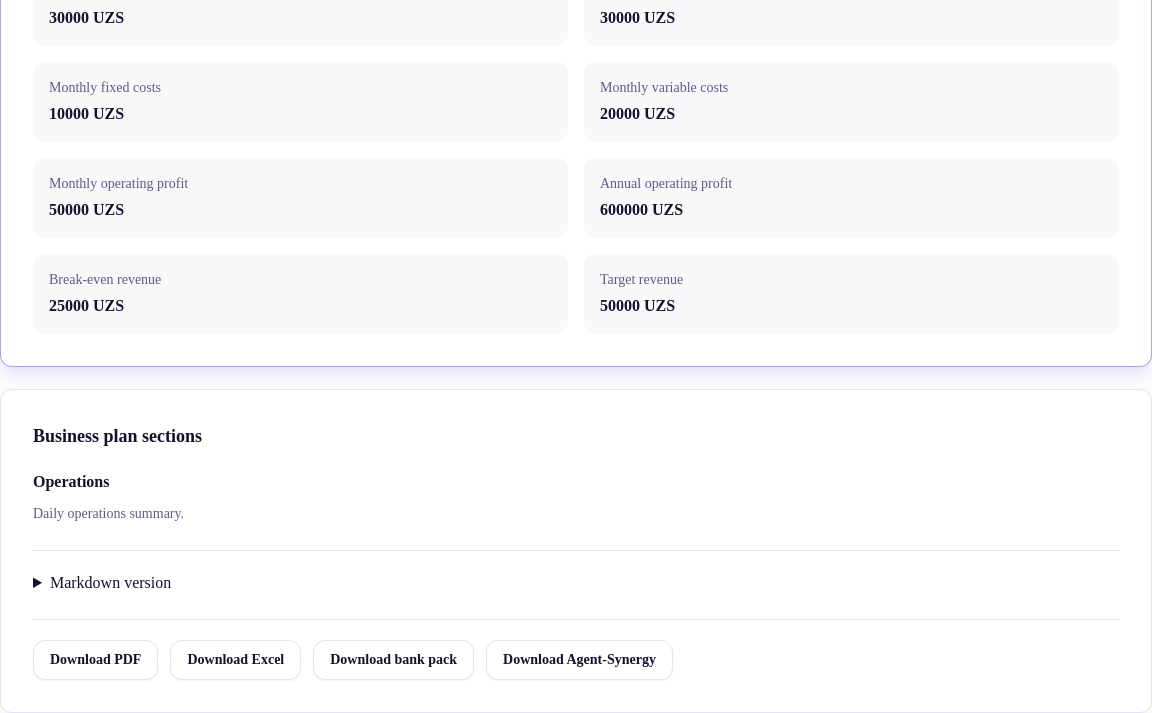
Test: reports panel › offers all plan exports and shows a localized tier restriction
This screenshot has width=1152, height=713.
(page scrolled)
Expected: the button "Download Excel" is shown, top-left (170, 640), bottom-right (301, 680)
Expected: the button "Download bank pack" is shown, top-left (313, 640), bottom-right (474, 680)
Click the button "Download PDF". click: (96, 660)
box: top-left (33, 640), bottom-right (158, 680)
(page scrolled)
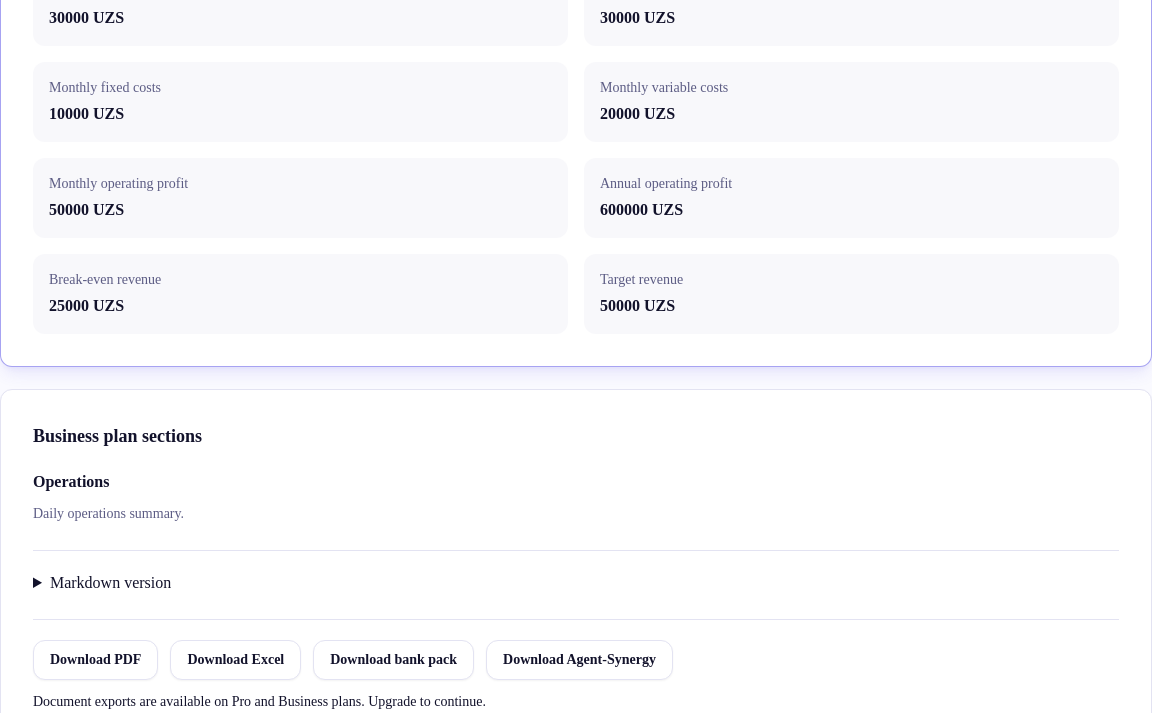
Expected: the message shows "Document exports are available on Pro and Business plans.", top-left (33, 694), bottom-right (486, 709)
